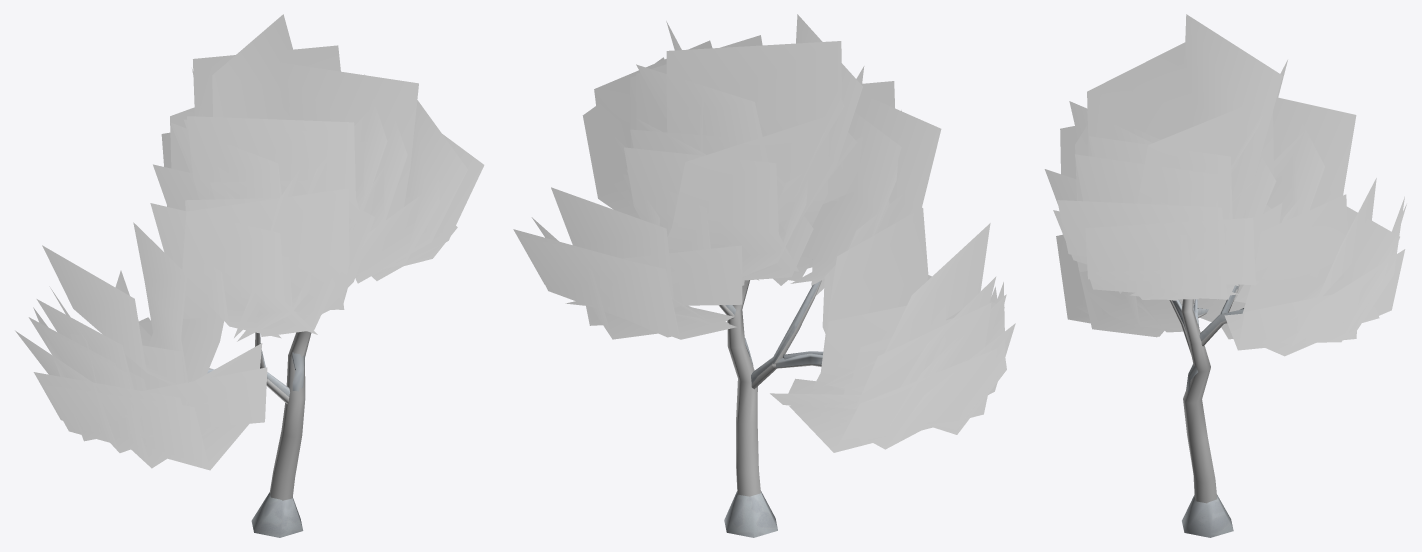
Rendered from Tree_Small_1_Snow.fbx.
3 renders of one model, left to right at view 1: azimuth 30°, elevation 25°; view 2: azimuth 150°, elevation 25°; view 3: azimuth 270°, elevation 25°, orthographic. The views are drawn at different scales.
Parts seen in each view (by area): view 1: Tree_Small_1_Snow_LOD0; view 2: Tree_Small_1_Snow_LOD0; view 3: Tree_Small_1_Snow_LOD0.
Boxes of the visible parts, x1,y1,x2,y2 form: Tree_Small_1_Snow_LOD0: (15, 14, 484, 537); Tree_Small_1_Snow_LOD0: (513, 14, 1015, 537); Tree_Small_1_Snow_LOD0: (1044, 14, 1406, 537).
Size of what is drawn, in the model's own units: 567 by 641 by 444.
